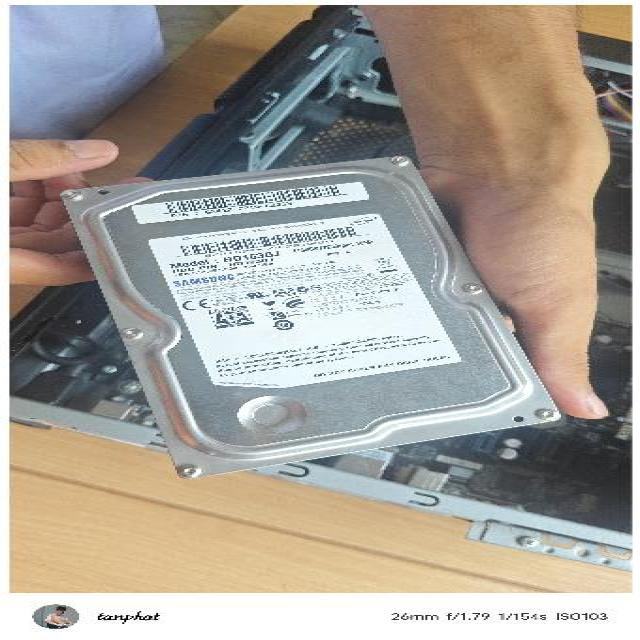DISK: (58, 154, 574, 481)
